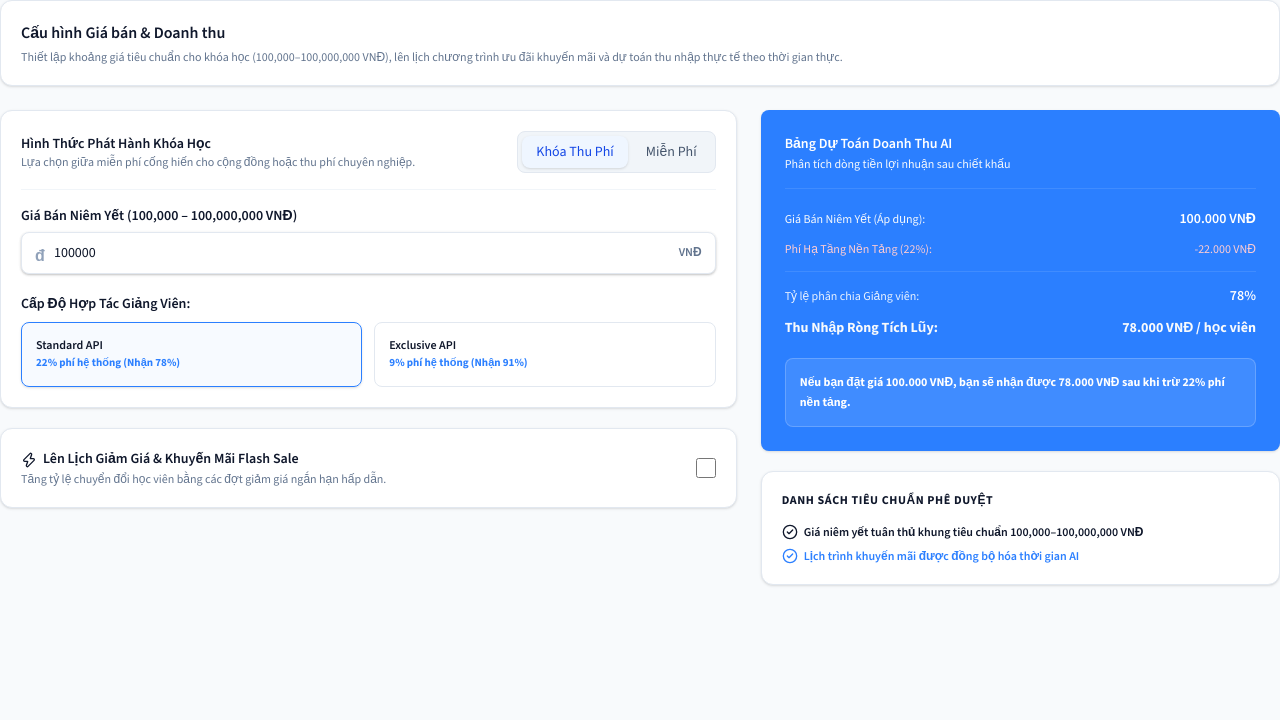
Test: Step3SettingsPrice commission tiers › renders labels and allocation percentages returned by the API
Check: the button "Standard API 22% phí hệ thống (Nhận 78%)" is shown, box [21, 322, 362, 386]
Step 1. Click the button "Exclusive API 9% phí hệ thống (Nhận 91%)" → (423, 345), box [374, 322, 716, 386]
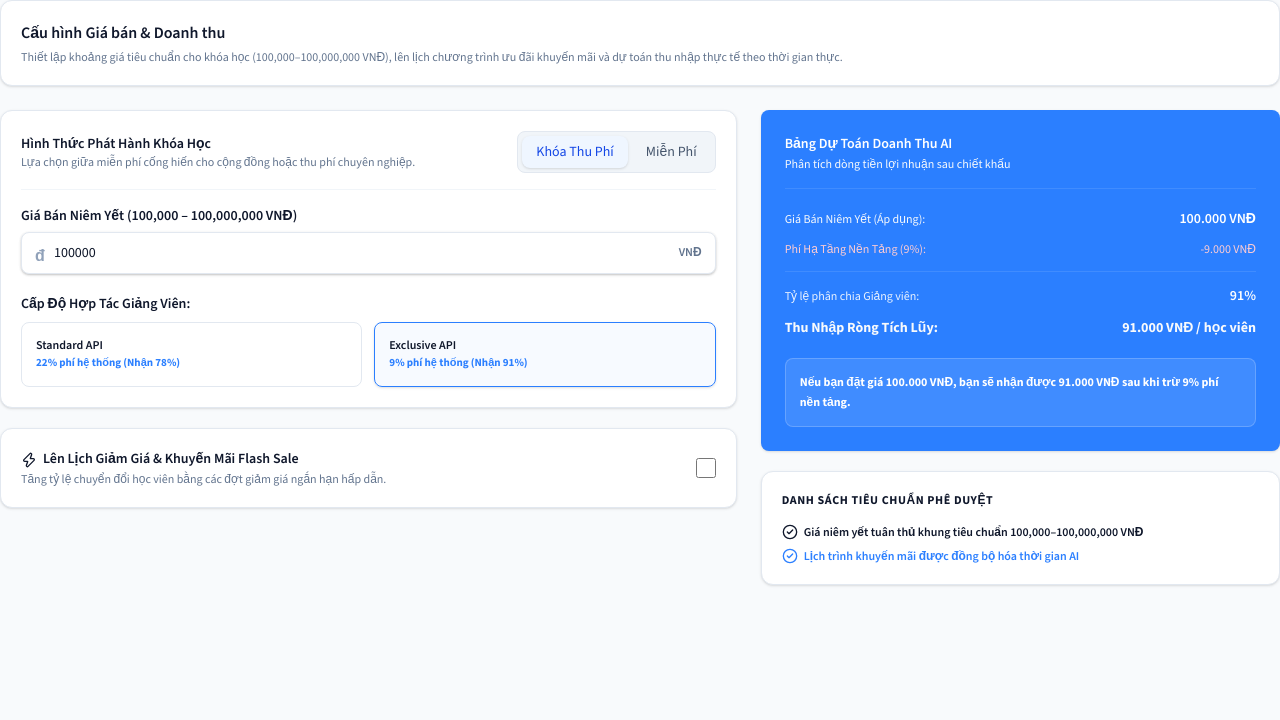
Check: the text "Phí Hạ Tầng Nền Tảng (9%):" is shown, box [785, 241, 926, 257]
Check: the text "91%" is shown, box [1230, 286, 1256, 306]
